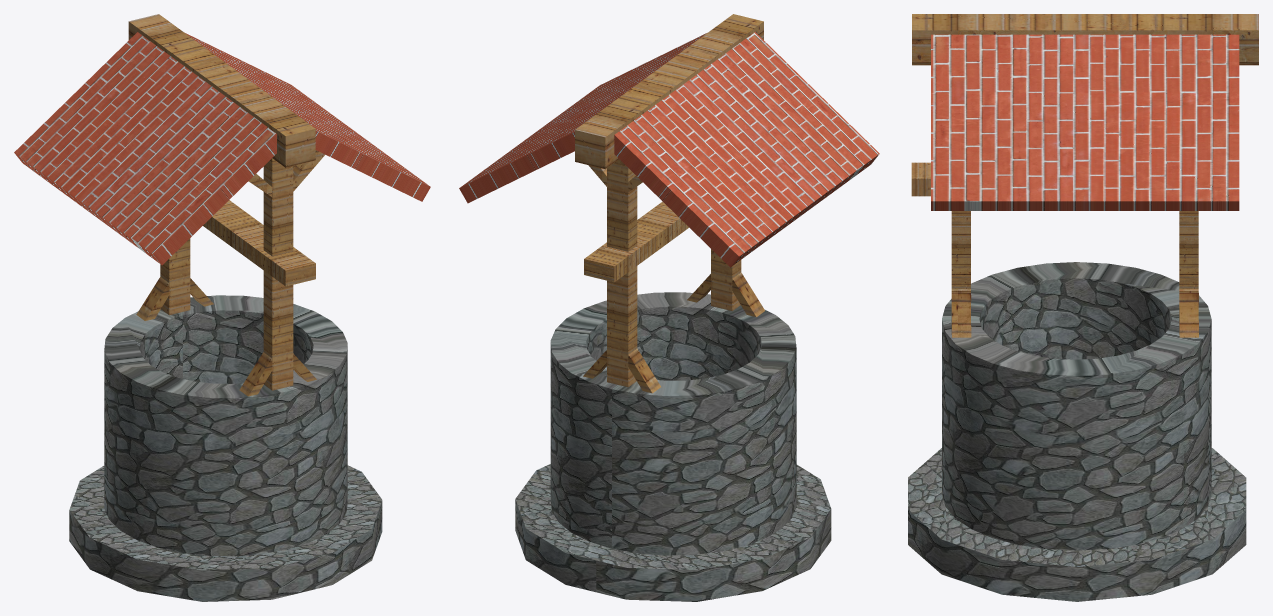
Rendered from Pozo.fbx.
The picture shows the model from 3 angles, left to right: view 1: azimuth 30°, elevation 25°; view 2: azimuth 150°, elevation 25°; view 3: azimuth 270°, elevation 25°; orthographic projection. The views are drawn at different scales.
Visible parts, largest first — view 1: Circle001, Box021, Cylinder010, Box025, Box020, Box016, Box018, Box017, Box022, Box024; view 2: Circle001, Box021, Cylinder010, Box025, Box020, Box017, Box018, Box016, Box024, Box022; view 3: Circle001, Box020, Cylinder010, Box025, Box016, Box017, Box019, Box023, Box018.
Part boxes in pixels (x1,y1,x2,y2): Circle001: [104, 295, 347, 556]; Box021: [14, 32, 276, 265]; Cylinder010: [69, 465, 382, 601]; Box025: [128, 14, 315, 167]; Box020: [185, 33, 430, 201]; Box016: [263, 158, 293, 390]; Box018: [203, 200, 315, 286]; Box017: [160, 238, 190, 315]; Box022: [239, 352, 272, 396]; Box024: [136, 277, 169, 320]; Circle001: [550, 292, 796, 555]; Box021: [614, 32, 879, 267]; Cylinder010: [515, 464, 831, 601]; Box025: [575, 14, 763, 169]; Box020: [459, 33, 706, 203]; Box017: [607, 159, 637, 387]; Box018: [584, 201, 688, 282]; Box016: [711, 249, 741, 311]; Box024: [628, 348, 660, 393]; Box022: [732, 272, 764, 317]; Circle001: [942, 262, 1211, 550]; Box020: [931, 34, 1239, 210]; Cylinder010: [908, 448, 1246, 601]; Box025: [912, 14, 1258, 65]; Box016: [951, 211, 970, 288]; Box017: [1179, 211, 1198, 288]; Box019: [951, 289, 971, 337]; Box023: [1179, 289, 1198, 337]; Box018: [911, 162, 930, 196].
Size of the model in its own units: 91.85 by 145 by 91.05.
